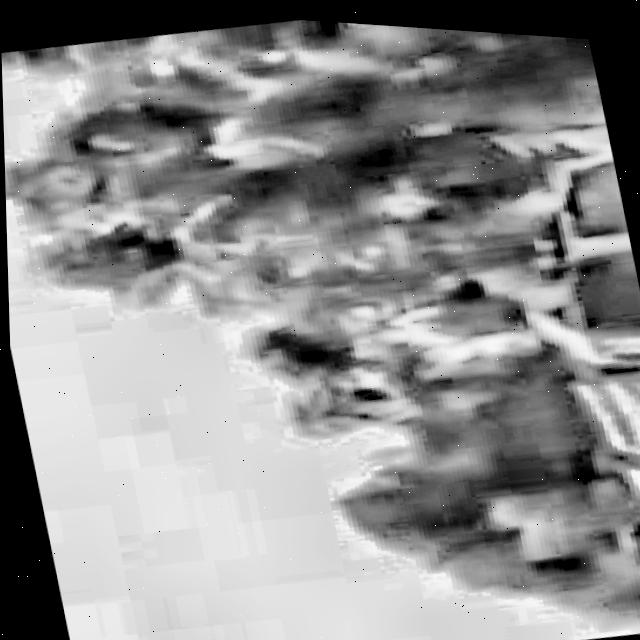Kereta: (629, 484, 640, 622)
Lokomotif: (420, 105, 640, 575)
